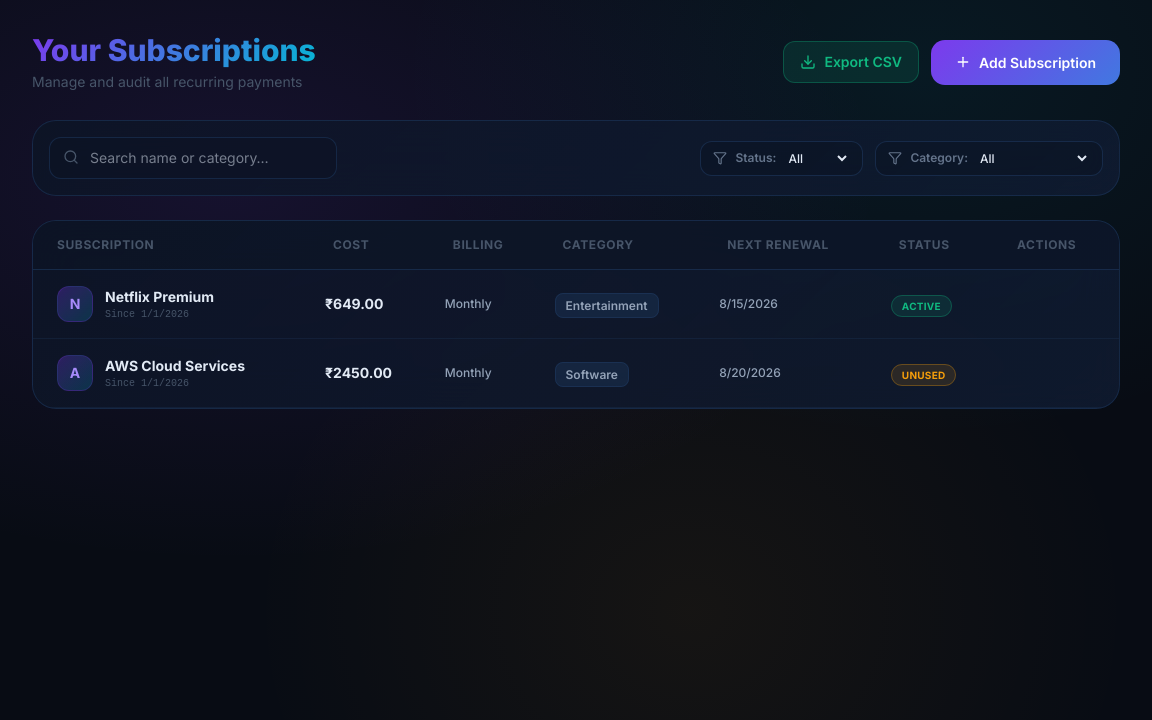
Subscriptions Page › filters subscriptions by search query
This screenshot has width=1152, height=720.
Expected: the text "Netflix Premium" is shown, [105,286,214,306]
Type "AWS" into the field with placeholder "Search name or category…" at (193, 158), box [49,137,337,179]
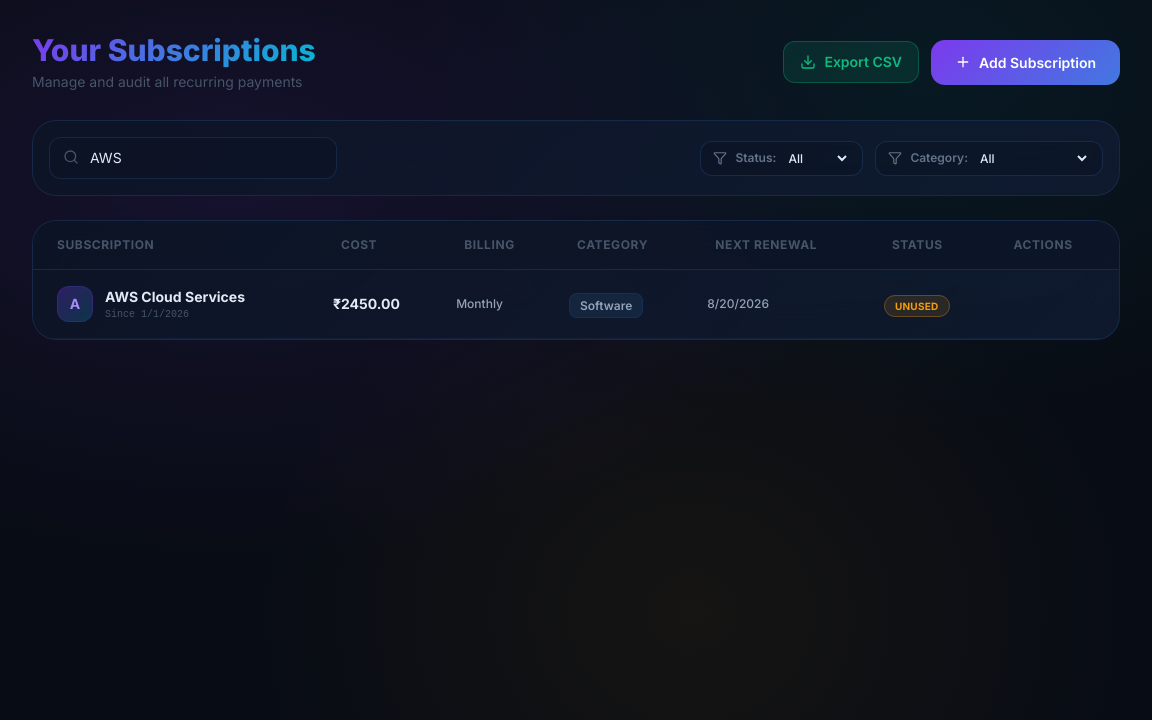
Expected: the text "AWS Cloud Services" is shown, [105,286,245,306]
Result: the text "Netflix Premium" is gone
